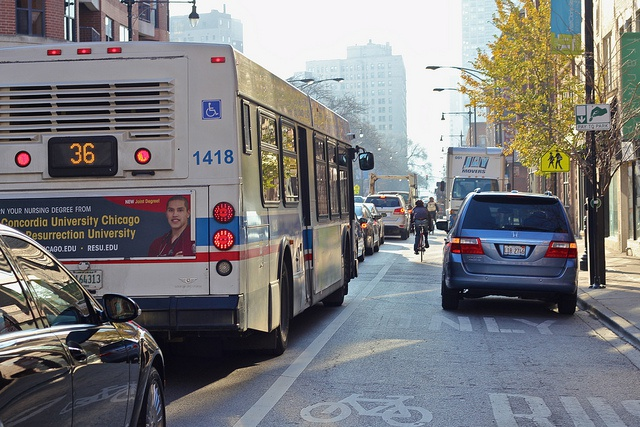non-vehicle: (415, 223, 427, 262), (429, 214, 436, 235)
